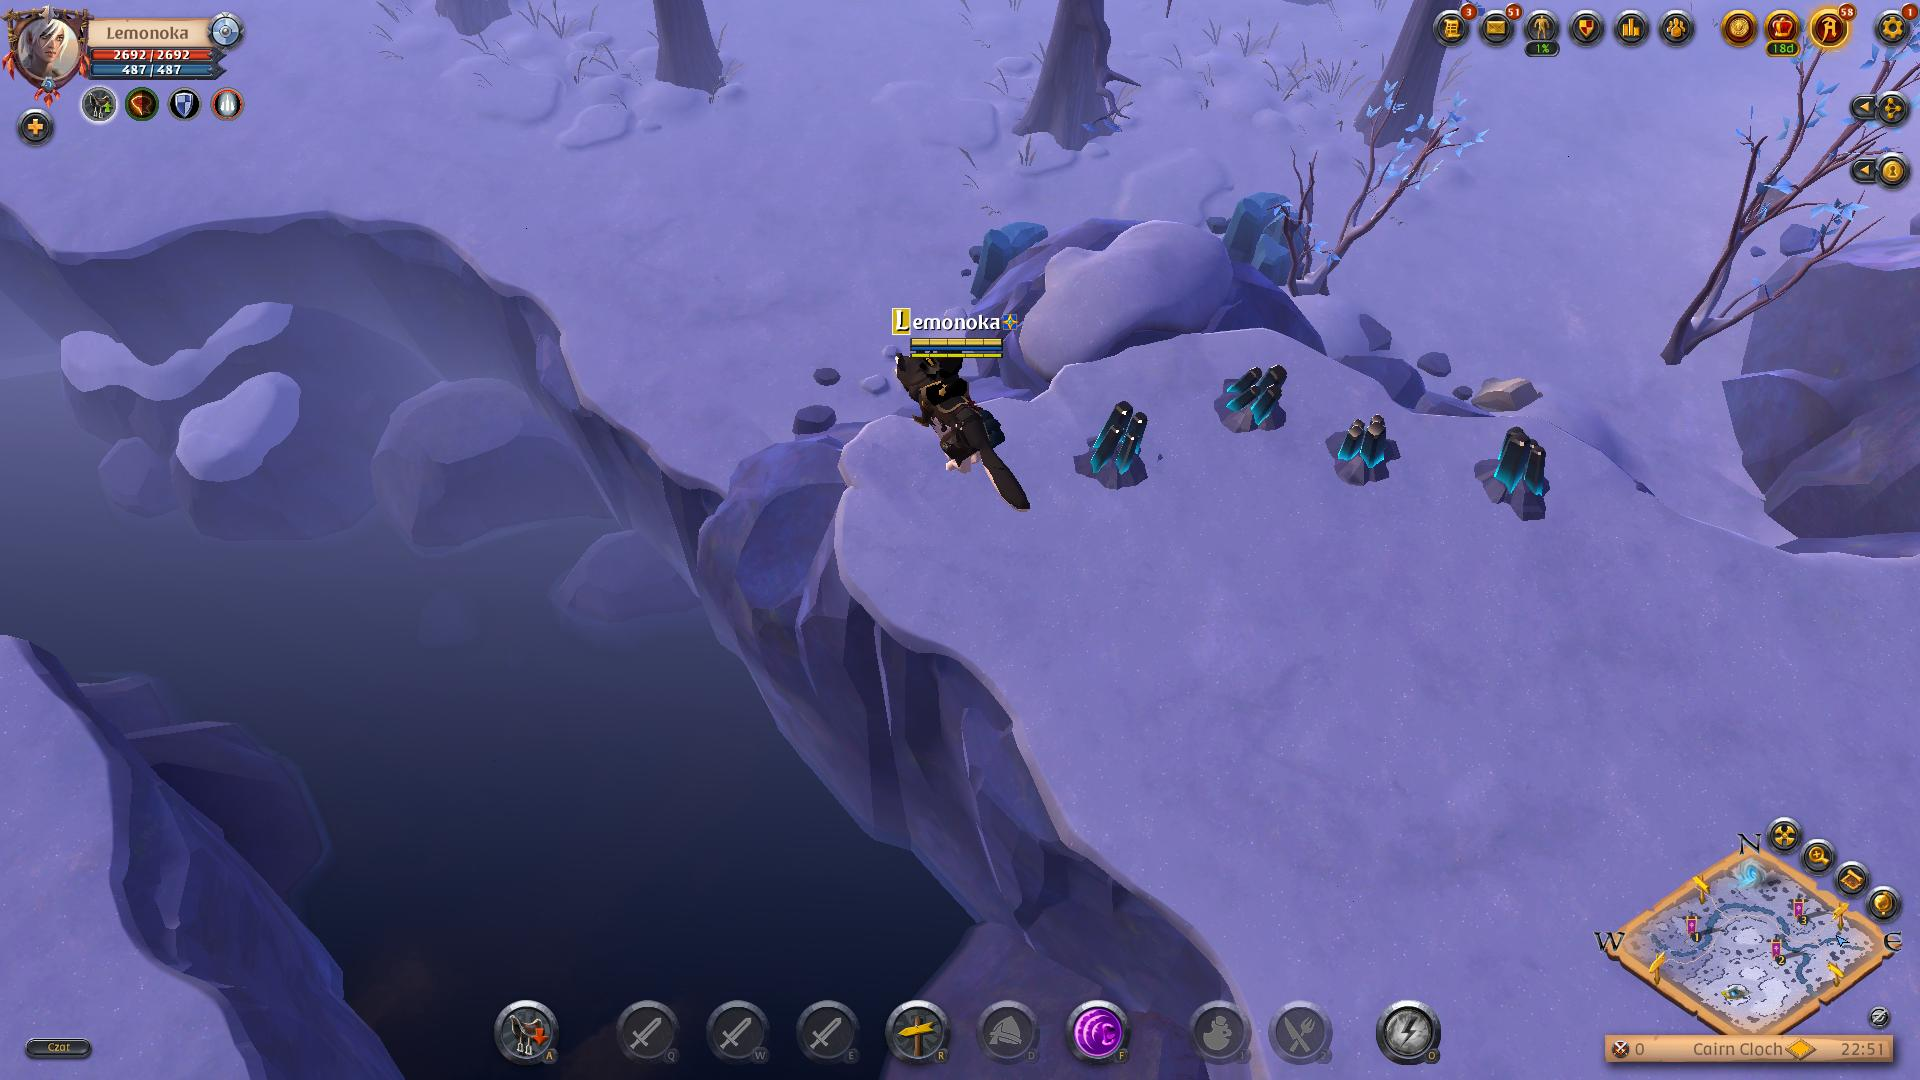ore tier 4: (1472, 422, 1555, 529), (1076, 396, 1166, 495), (1213, 355, 1295, 439), (1328, 413, 1404, 492)
